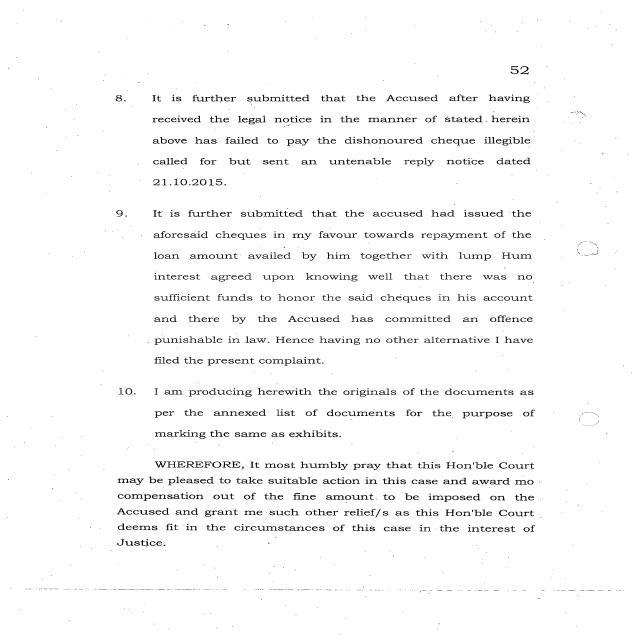page-number: (421, 32, 640, 90)
